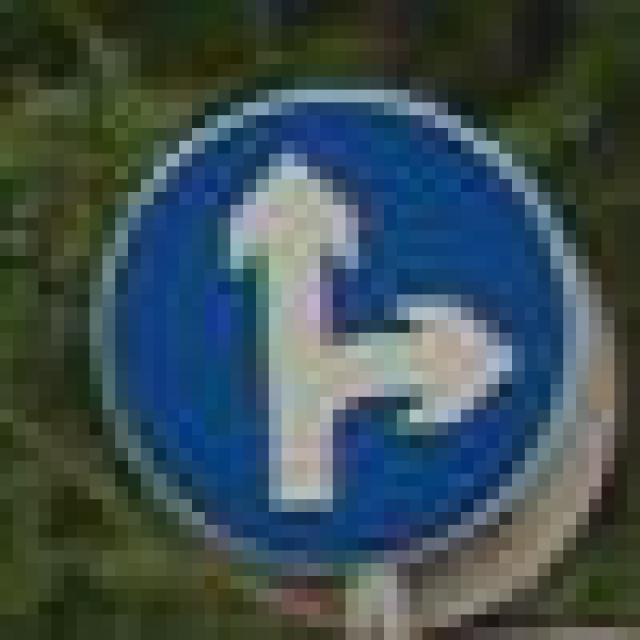compulsory_ahead_or_left: (64, 64, 576, 589)
